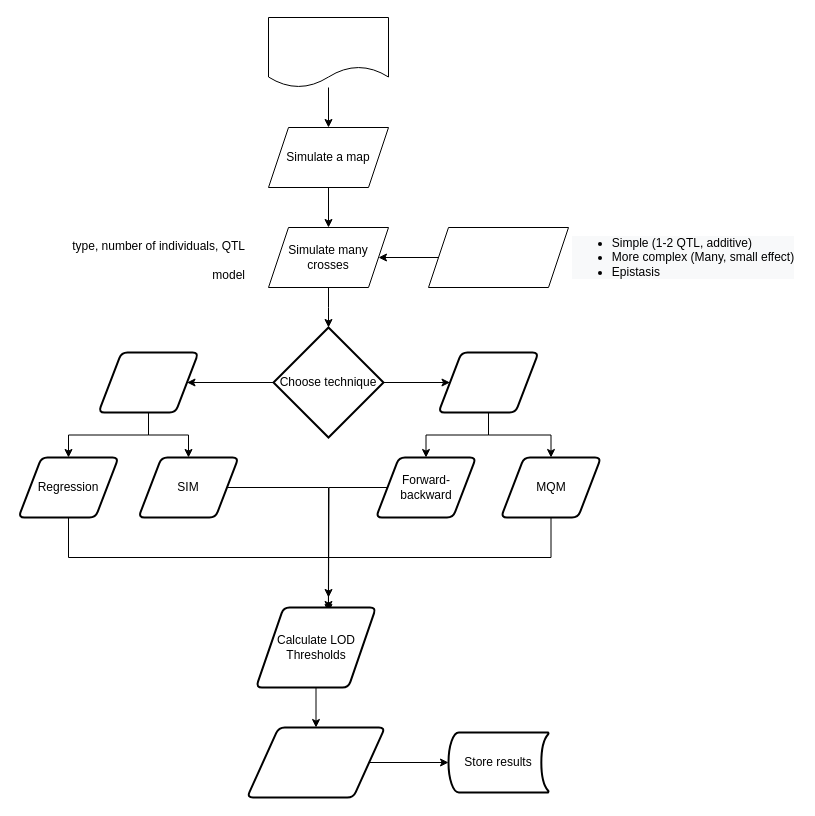
Some shapes in this 815 by 816 pixel diagram are drawn without their labels. Each missing label, with the box of its shape:
Chromosome lengths number of markers/chromosome: (268, 16, 388, 88)
Make QTL Models: (428, 226, 568, 288)
Multiple QTL: (437, 351, 539, 413)
Perform mapping: (246, 726, 386, 798)
SIngle QTL: (97, 351, 199, 413)
